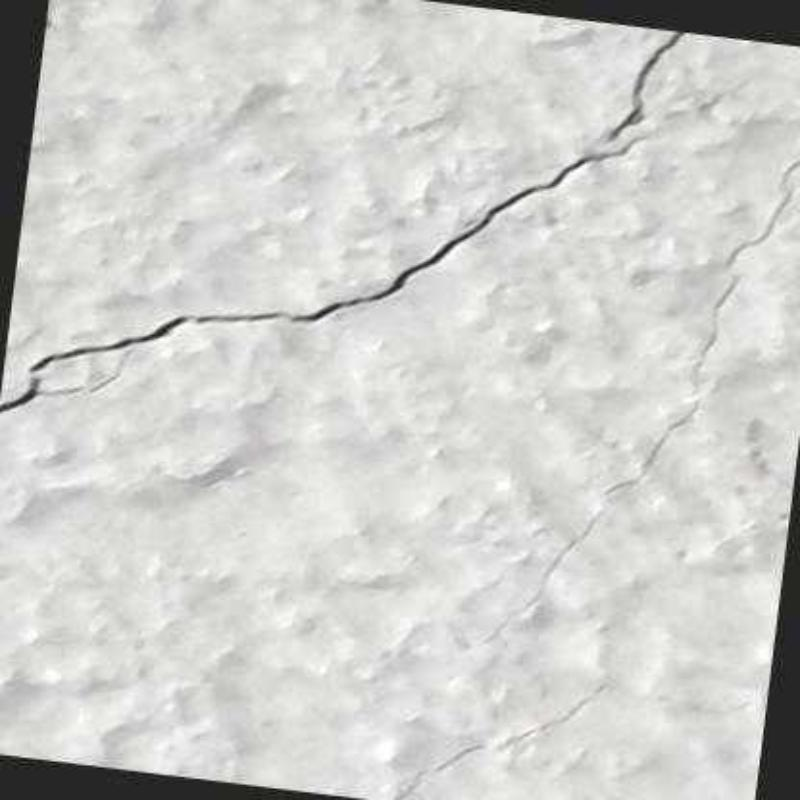pothole: (0, 133, 650, 413), (601, 31, 686, 140)
